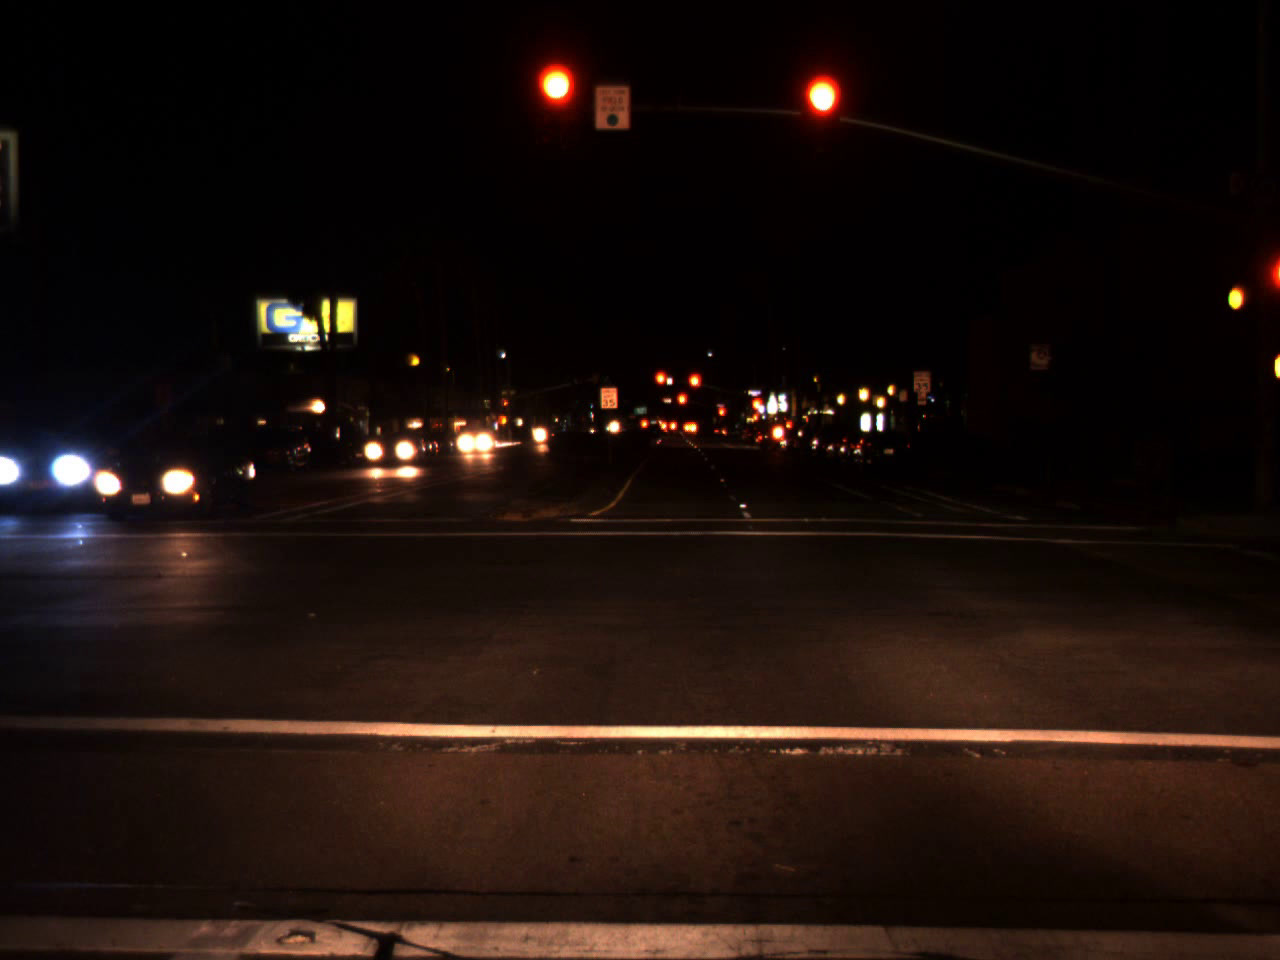stop: (537, 64, 577, 142), (801, 75, 840, 153), (653, 370, 671, 399), (686, 372, 702, 401), (675, 391, 688, 418), (751, 397, 763, 424), (717, 406, 727, 427), (503, 398, 509, 414)
